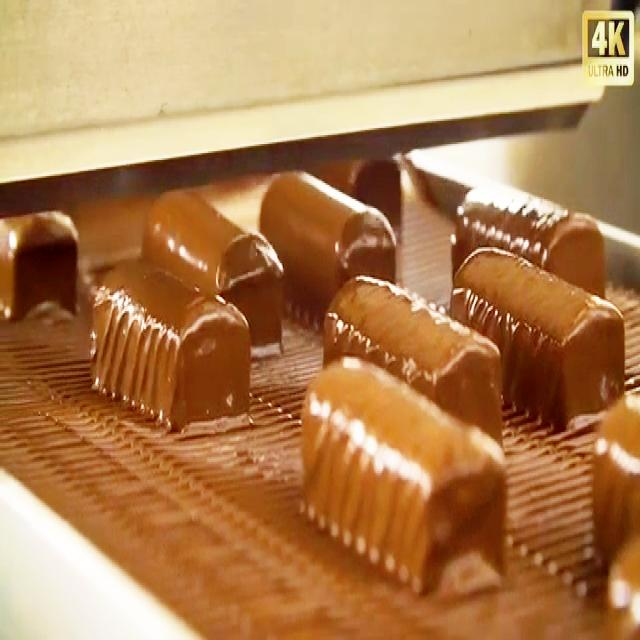Choco: (298, 352, 508, 596), (91, 245, 258, 440), (321, 270, 504, 446), (449, 242, 625, 425), (144, 192, 286, 365), (455, 170, 608, 324), (263, 174, 402, 325), (4, 220, 82, 322)
